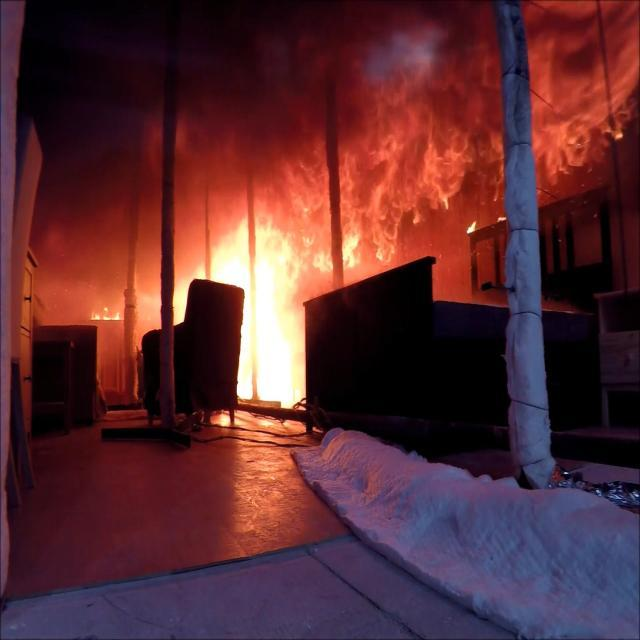Fire: (184, 214, 300, 406), (312, 224, 364, 276), (89, 301, 122, 322), (465, 218, 478, 234), (496, 216, 506, 223)
Smoke: (23, 2, 640, 226), (369, 225, 398, 269)
